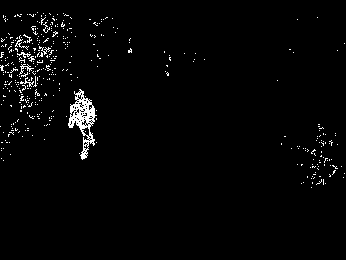person: (68, 87, 103, 162)
